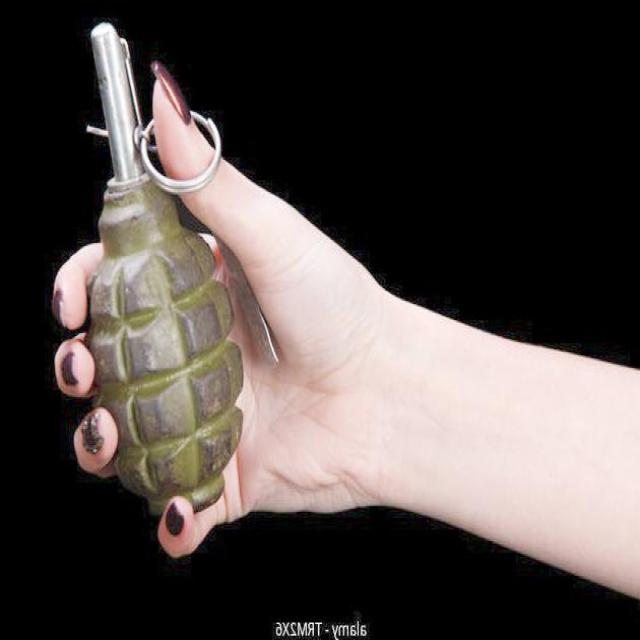grenade: (84, 24, 280, 514)
